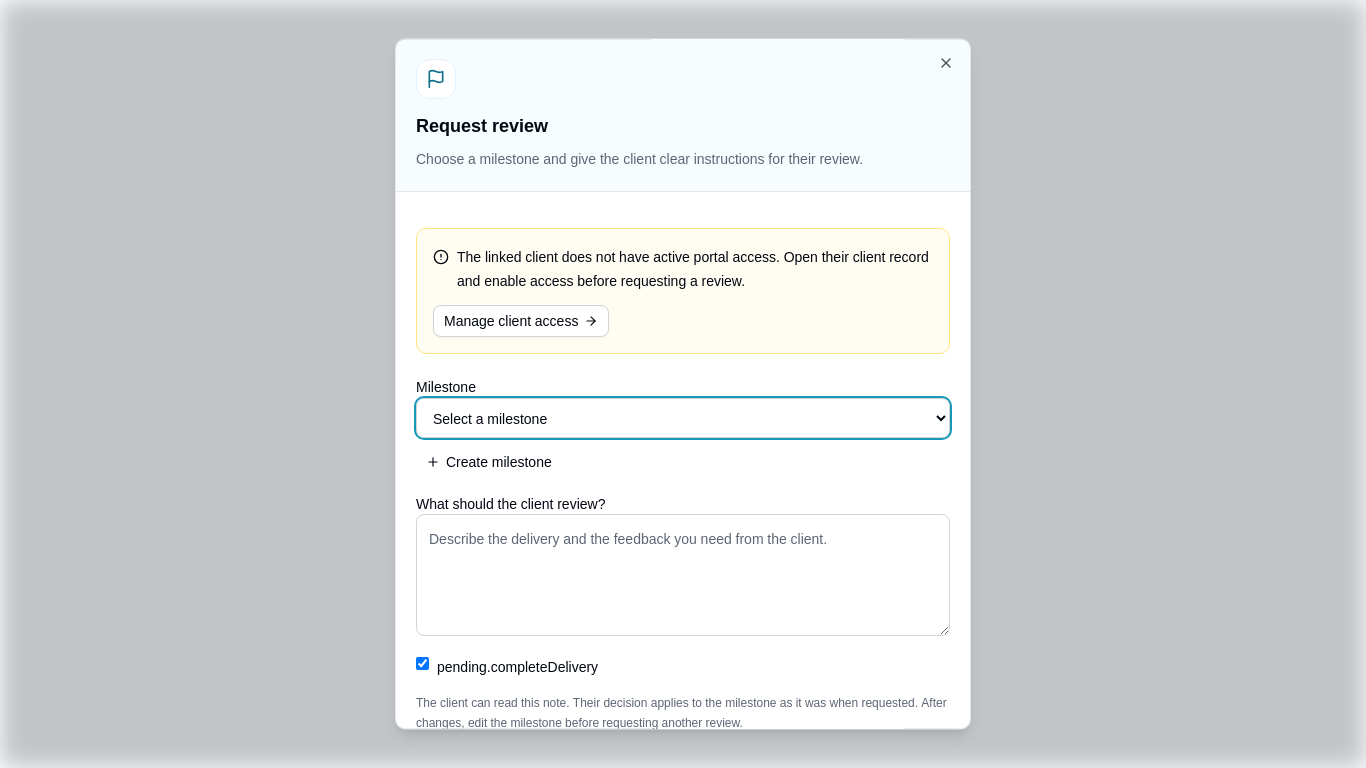
Scenario: explains and blocks unavailable recipients: CLIENT_PORTAL_REQUIRED
Select "Homepage design" in the dropdown labelled "Milestone" at (683, 418), box [416, 398, 950, 438]
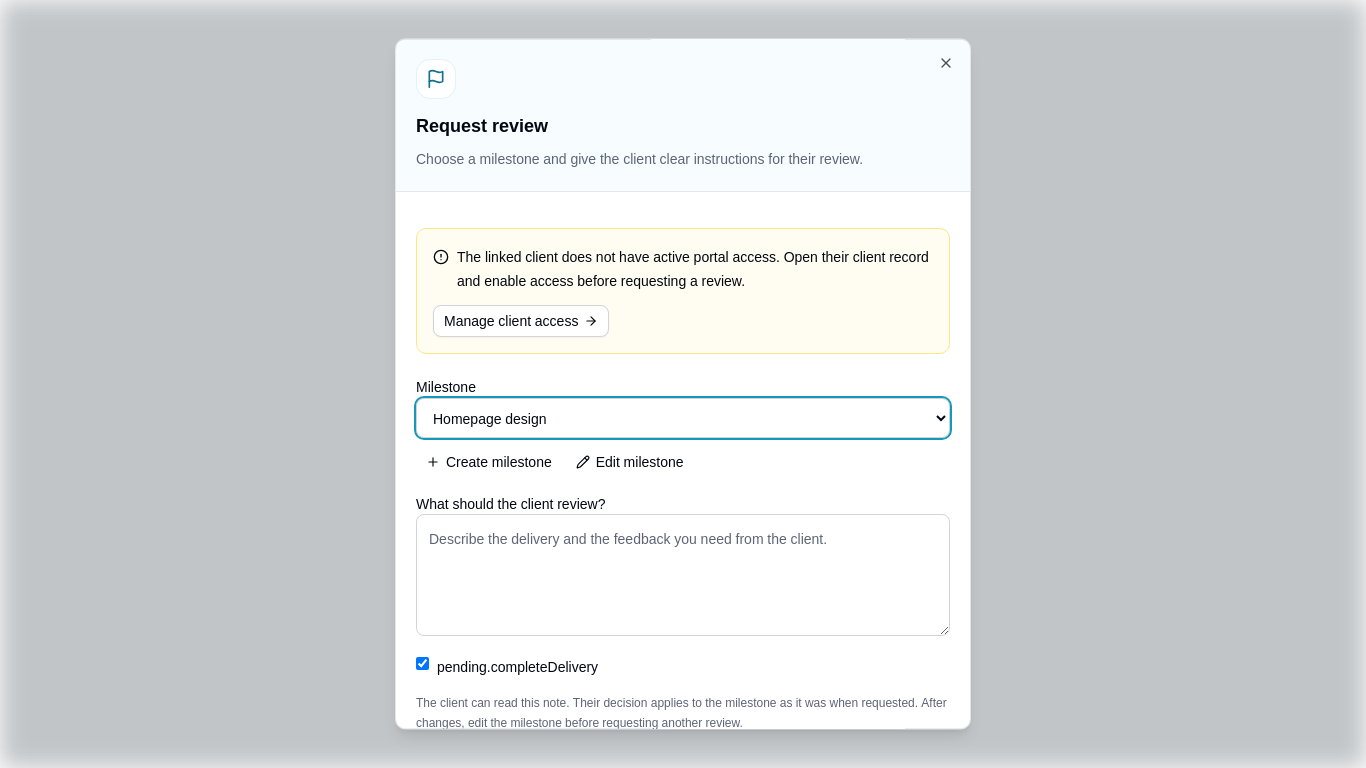
Type "  Please review the homepage  " into the text box labelled "What should the client review?".
click(683, 575); type("  Please review the homepage  ")  # box [416, 514, 950, 636]
(page scrolled)
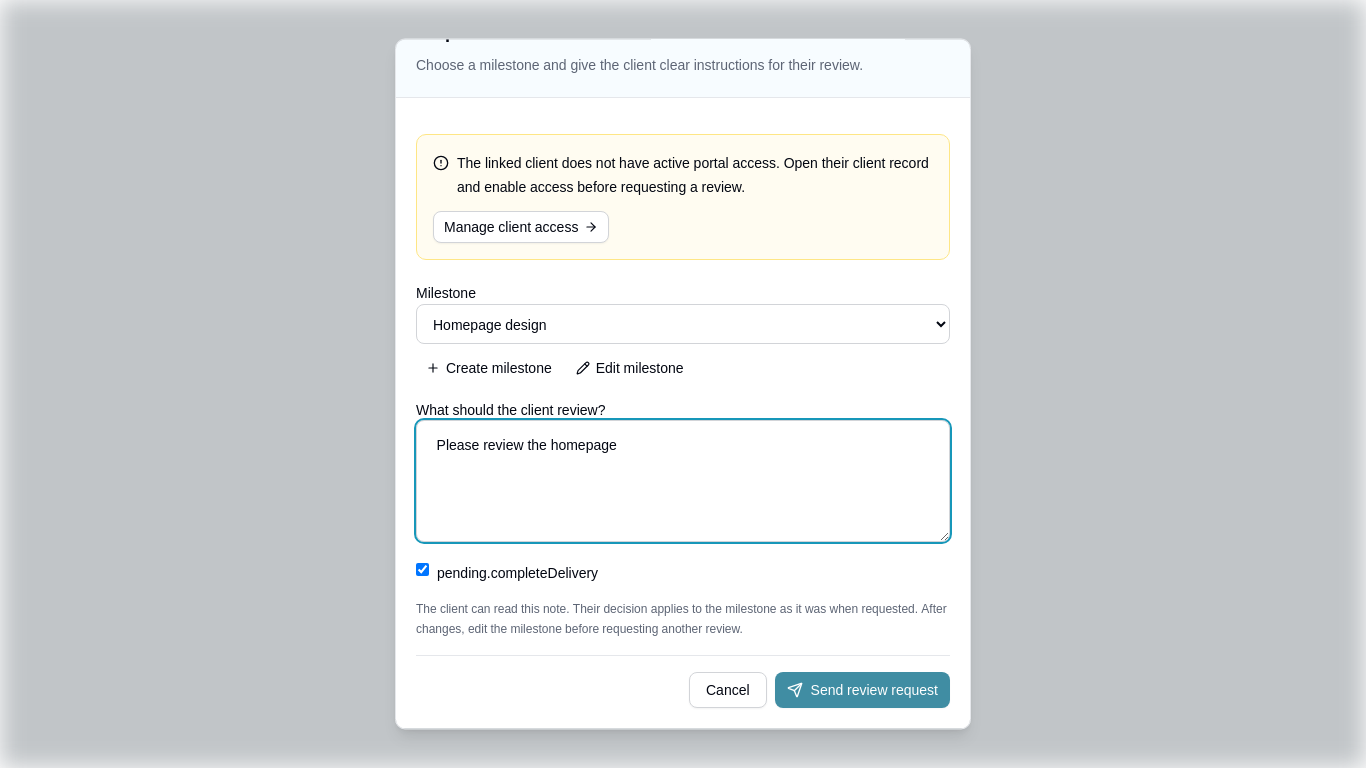
Expected: the text "The linked client does not have active portal access. Open their client record and enable access before requesting a rev" is shown, [457, 153, 929, 196]
Now the button "Send review request" is disabled, box [775, 672, 950, 708]
